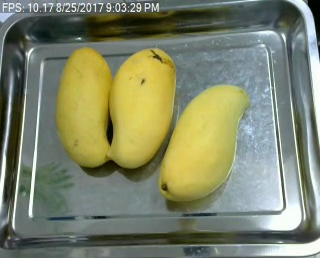Mango: (158, 81, 250, 200), (107, 48, 175, 168), (52, 47, 114, 168)
